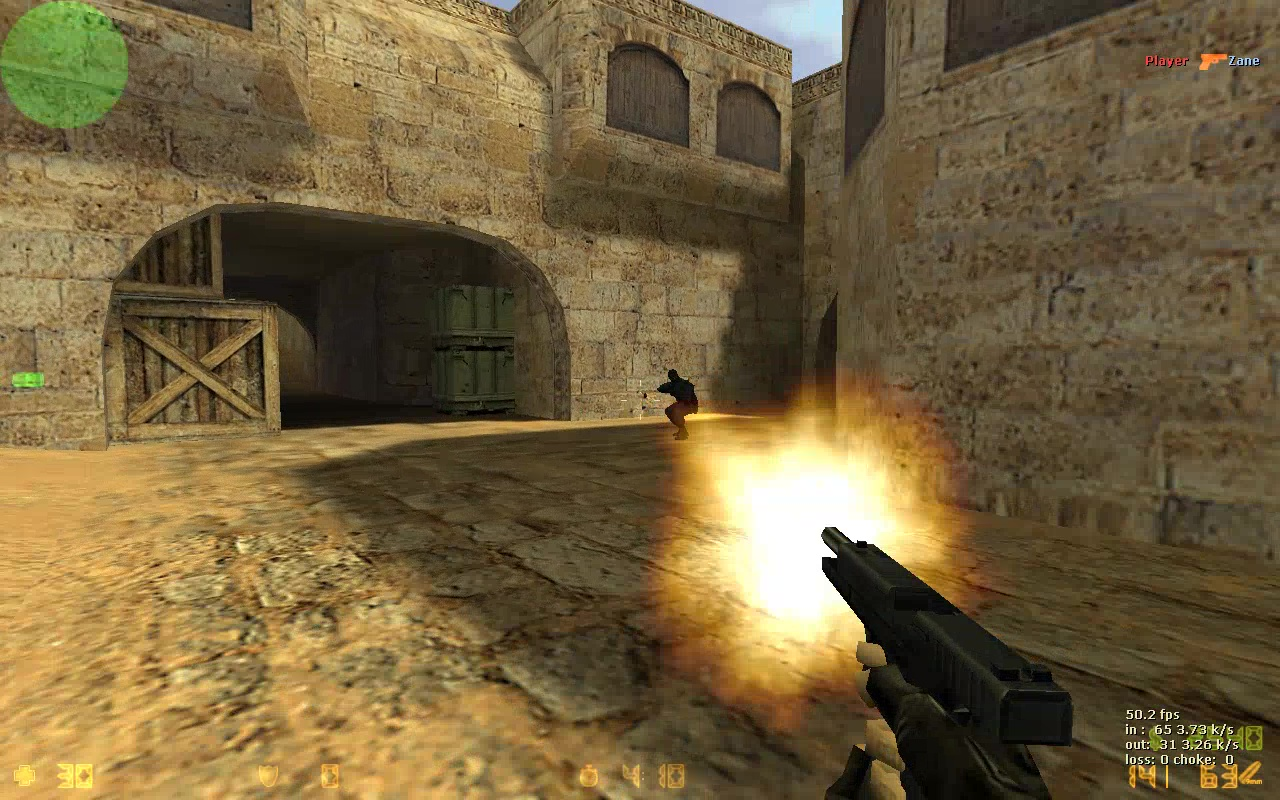ct: (658, 369, 699, 444)
